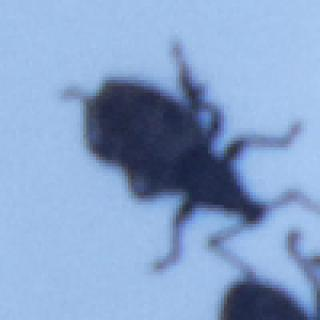bvw: (60, 38, 316, 281)
